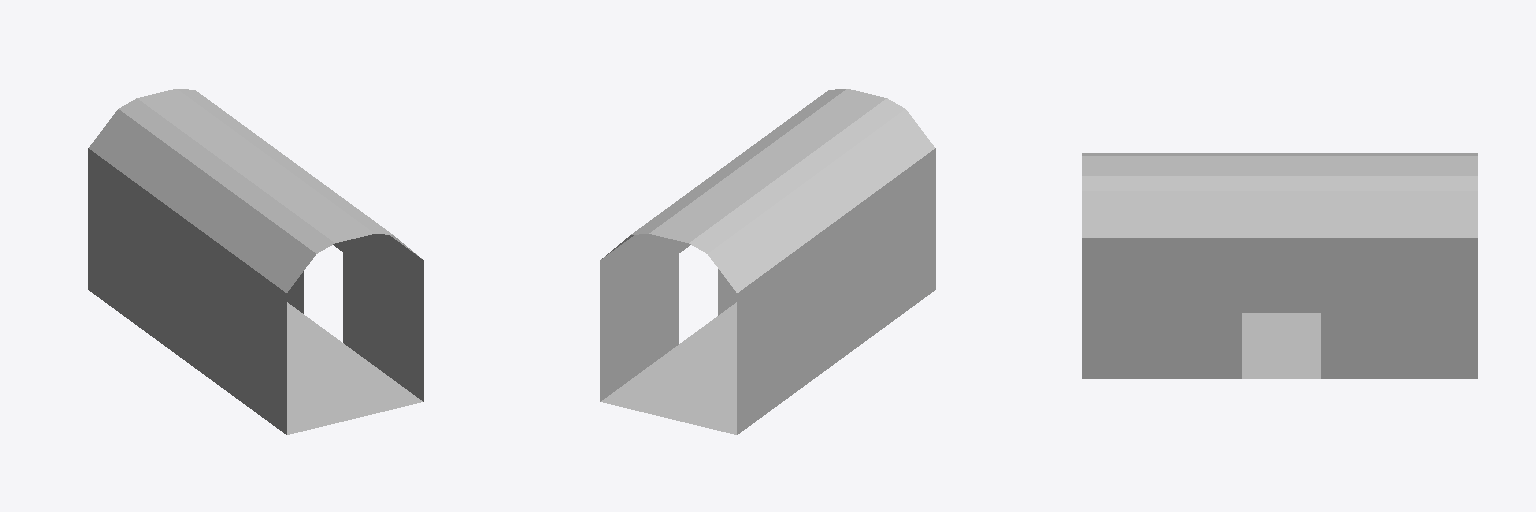
File: coridor_part_2_1.obj
3 views of the same model, side by side, from view 1: azimuth 30°, elevation 25°; view 2: azimuth 150°, elevation 25°; view 3: azimuth 270°, elevation 25° (orthographic).
Visible parts, largest first — view 1: Object018; view 2: Object018; view 3: Object018.
Boxes of the visible parts, x1,y1,x2,y2 form: Object018: [88, 89, 423, 434]; Object018: [600, 89, 935, 434]; Object018: [1082, 153, 1477, 378].
Size of the model in its own units: 382 by 481 by 961.